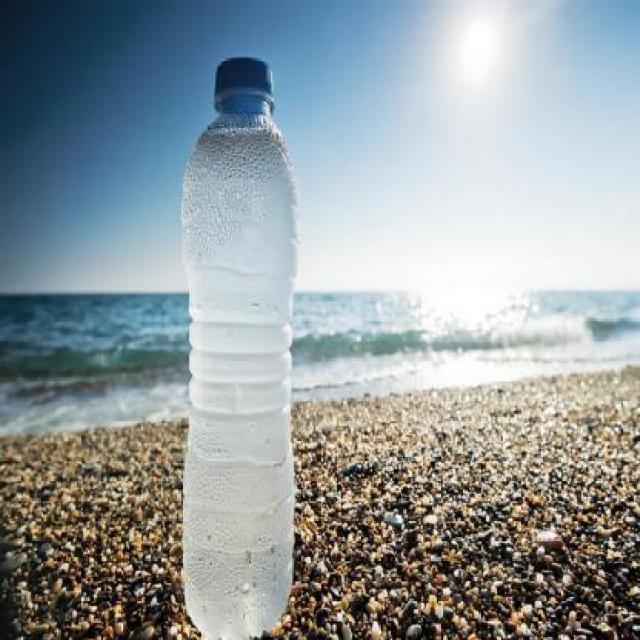bottle: (168, 34, 299, 624)
